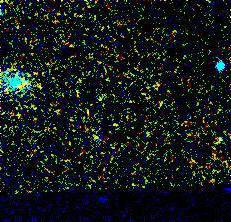star: (9, 71, 39, 101)
